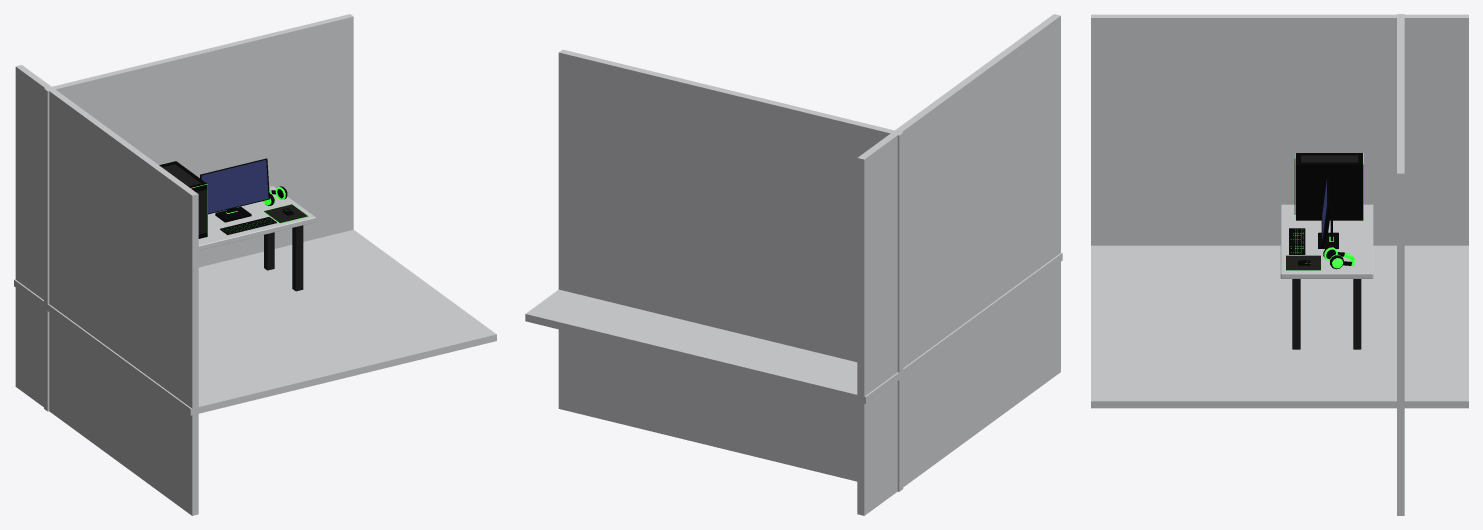
File: desk.glb
3 renders of one model, left to right at view 1: azimuth 30°, elevation 25°; view 2: azimuth 150°, elevation 25°; view 3: azimuth 270°, elevation 25°, orthographic. The views are drawn at different scales.
Visible parts, largest first — view 1: Wall, Wall2, Floor, table, monitor, cpu; view 2: Wall2, Wall, Floor; view 3: Wall, Floor, table, cpu, Wall2, monitor, Plane, headset, keyboard.
Part boxes in pixels (<box>): Wall: <box>15,65,198,515</box>; Wall2: <box>44,14,353,411</box>; Floor: <box>14,229,496,415</box>; table: <box>198,186,315,291</box>; monitor: <box>200,158,269,222</box>; cpu: <box>159,161,207,238</box>; Wall2: <box>558,49,903,491</box>; Wall: <box>857,14,1060,515</box>; Floor: <box>525,253,1062,404</box>; Wall: <box>1091,14,1468,245</box>; Floor: <box>1091,245,1468,408</box>; table: <box>1280,204,1373,349</box>; cpu: <box>1294,153,1363,220</box>; Wall2: <box>1397,14,1404,515</box>; monitor: <box>1318,172,1338,248</box>; Plane: <box>1285,255,1321,270</box>; headset: <box>1323,246,1355,269</box>; keyboard: <box>1289,228,1305,254</box>.
Bounding box in the file's own units: 12.11 × 12.11 × 12.11.
